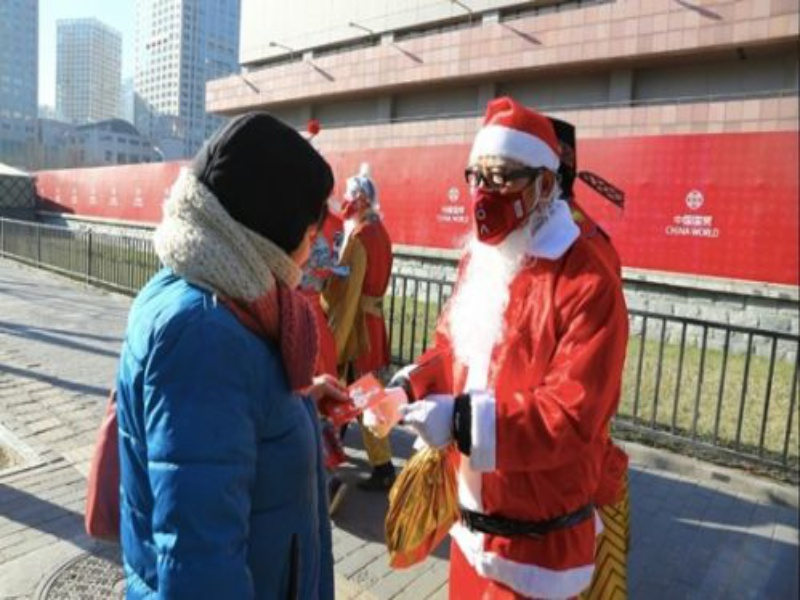mask: (460, 102, 592, 252), (335, 166, 395, 223)
